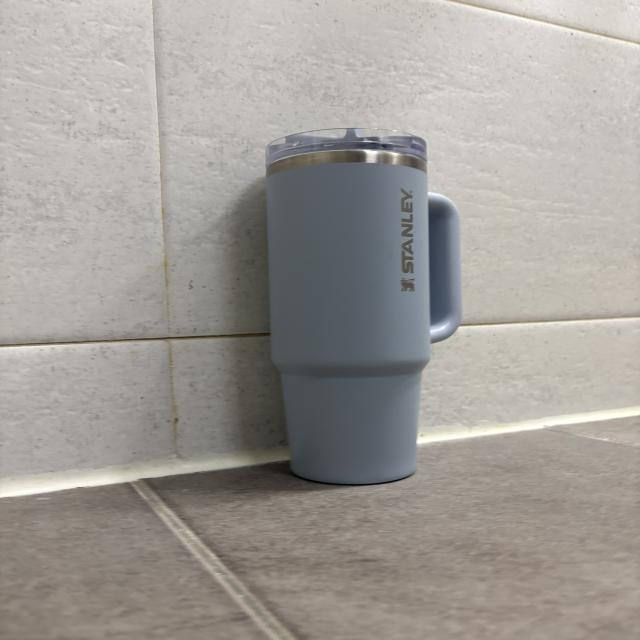waterbottle: (268, 125, 460, 487)
